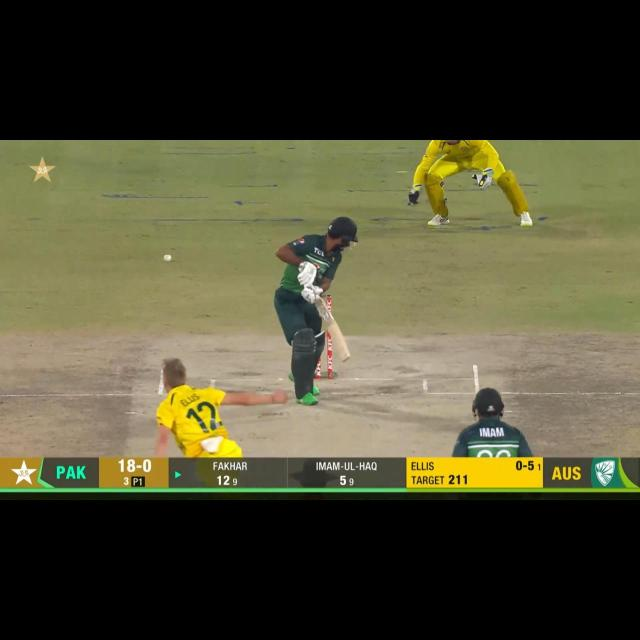bat: (308, 291, 360, 372)
toe: (338, 344, 352, 364)
